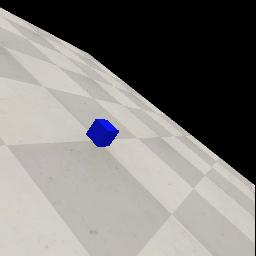box: (86, 119, 119, 147)
